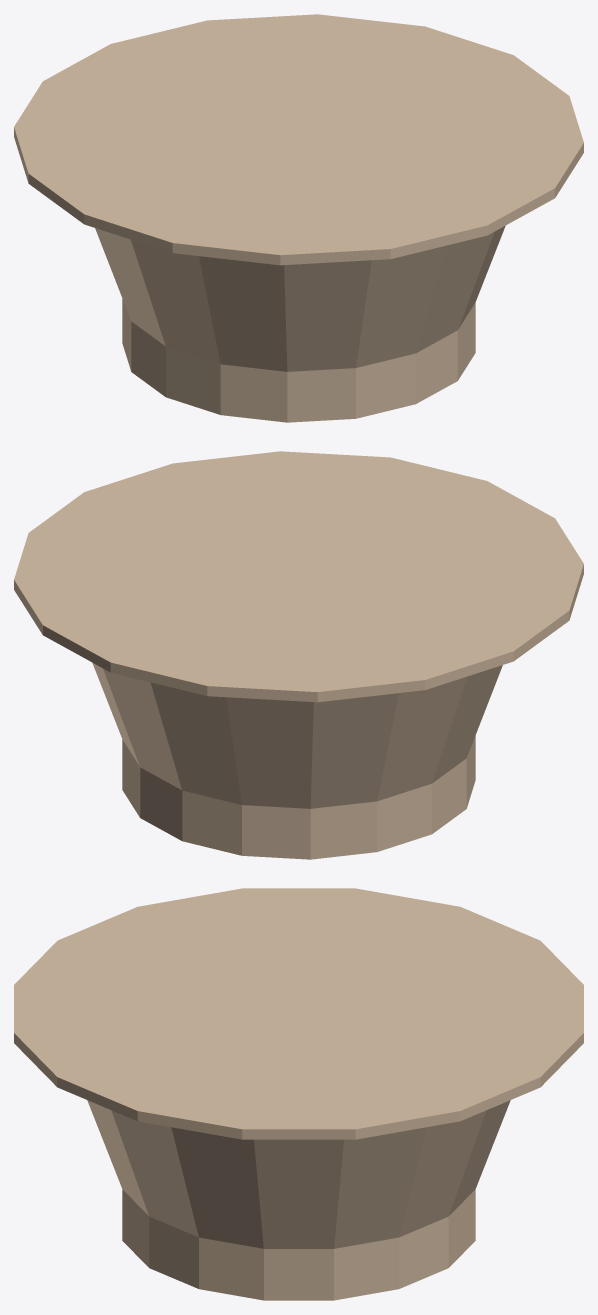
The model's file is 8el_avionics_s1_1_collidersobj.obj.
3 renders of one model, top to bottom at view 1: azimuth 30°, elevation 25°; view 2: azimuth 150°, elevation 25°; view 3: azimuth 270°, elevation 25°, orthographic.
Parts seen in each view (by area): view 1: coll3, coll2, coll1; view 2: coll3, coll2, coll1; view 3: coll3, coll2, coll1.
Part boxes in pixels (bbox=[...]): coll3: bbox=[14, 14, 583, 265]; coll2: bbox=[95, 225, 505, 371]; coll1: bbox=[122, 299, 475, 422]; coll3: bbox=[14, 451, 583, 702]; coll2: bbox=[92, 662, 502, 808]; coll1: bbox=[122, 736, 475, 859]; coll3: bbox=[14, 888, 583, 1139]; coll2: bbox=[87, 1100, 510, 1248]; coll1: bbox=[122, 1189, 475, 1300].
Size of the model in its own units: 1.25 by 0.525 by 1.25.
